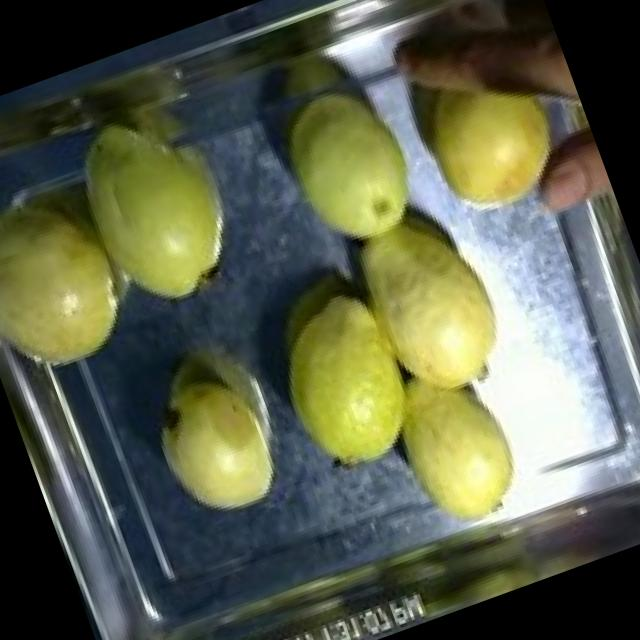Fruit: (43, 81, 271, 336), (336, 174, 540, 420), (242, 256, 445, 497), (252, 57, 450, 277), (0, 135, 156, 399), (395, 42, 596, 243), (371, 349, 549, 553), (136, 352, 302, 538)
